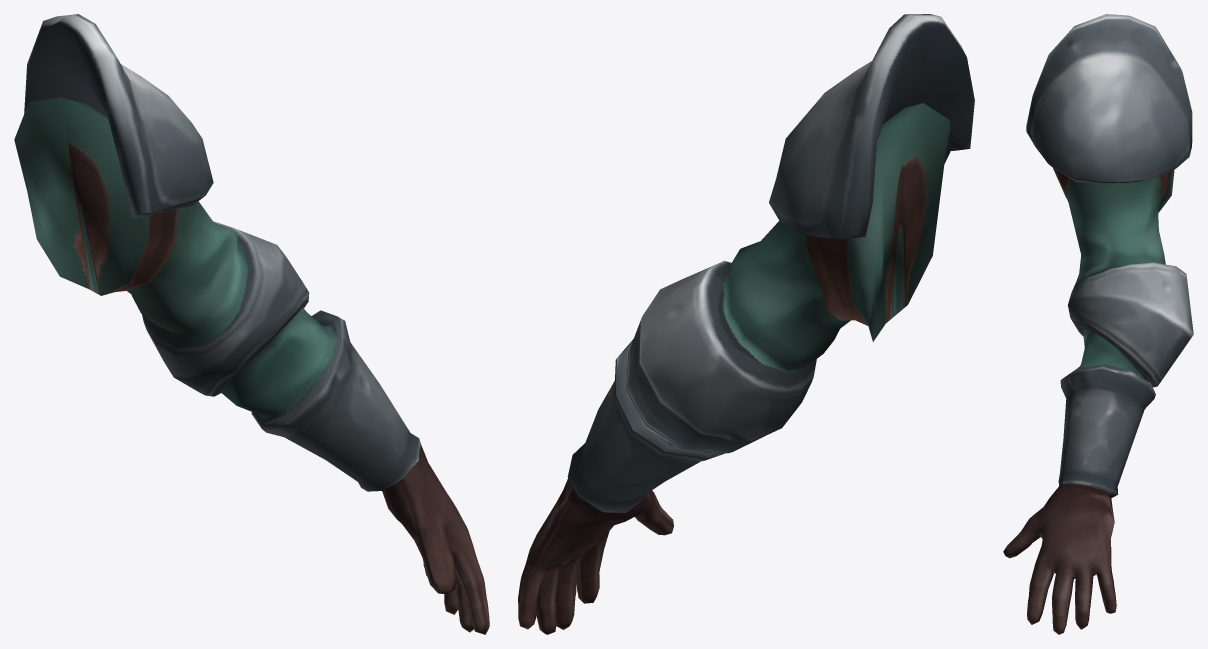
Rendered from M_LeftArm.fbx.
The picture shows the model from 3 angles, left to right: view 1: azimuth 30°, elevation 25°; view 2: azimuth 150°, elevation 25°; view 3: azimuth 270°, elevation 25°; orthographic projection. The views are drawn at different scales.
Visible parts, largest first — view 1: Male_Torso_1.002; view 2: Male_Torso_1.002; view 3: Male_Torso_1.002.
Part boxes in pixels (x1=…): Male_Torso_1.002: x1=14, y1=14, x2=489, y2=634; Male_Torso_1.002: x1=518, y1=14, x2=974, y2=634; Male_Torso_1.002: x1=1003, y1=14, x2=1193, y2=634.
Size of the model in its own units: 0.4253 by 0.7163 by 0.2508.
